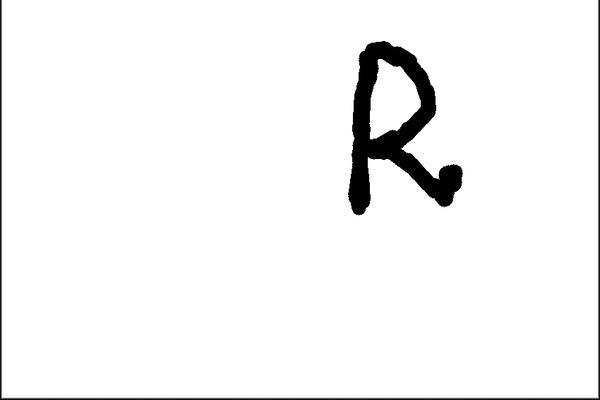R: (336, 29, 471, 226)
